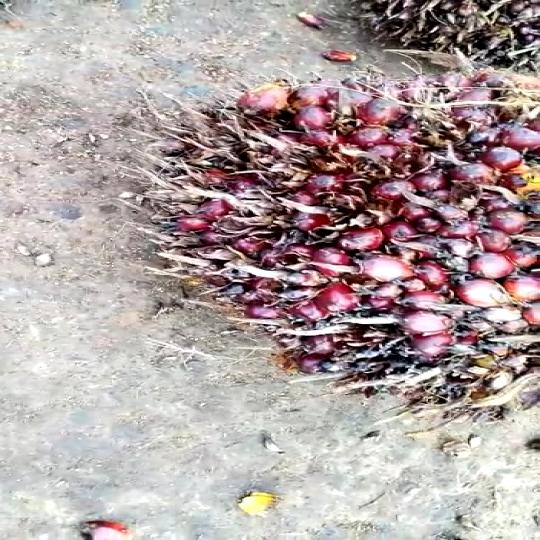masak: (148, 59, 540, 462)
